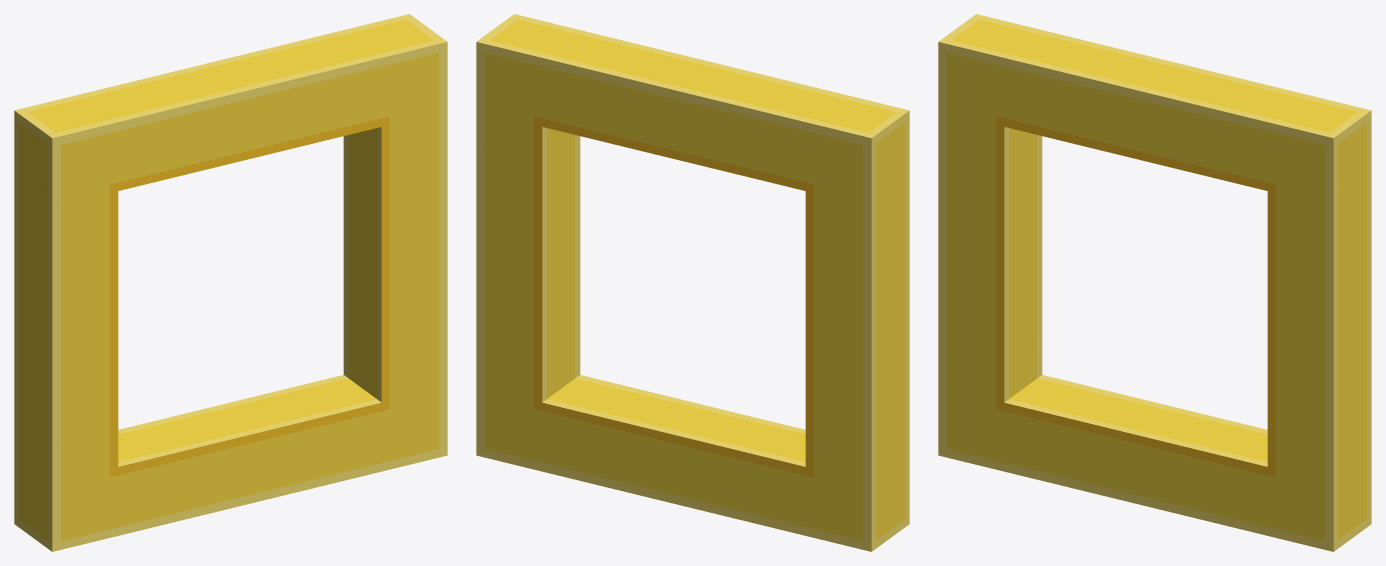
Rendered from gen_2ao.fezao.glb.
3 renders of one model, left to right at view 1: azimuth 30°, elevation 25°; view 2: azimuth 150°, elevation 25°; view 3: azimuth 330°, elevation 25°, orthographic.
Parts seen in each view (by area): view 1: GEN_2AO; view 2: GEN_2AO; view 3: GEN_2AO.
Part boxes in pixels (x1,y1,x2,y2): GEN_2AO: (14,14,447,551); GEN_2AO: (476,14,909,551); GEN_2AO: (938,14,1371,551).
Size of the model in its own units: 3 by 3 by 0.5.
1 material, 1 textured.
